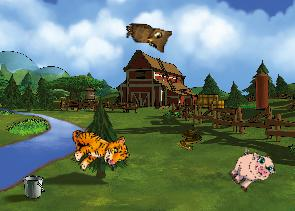owl: (124, 23, 172, 53)
pig: (223, 142, 279, 198)
tiger: (66, 117, 131, 176)
